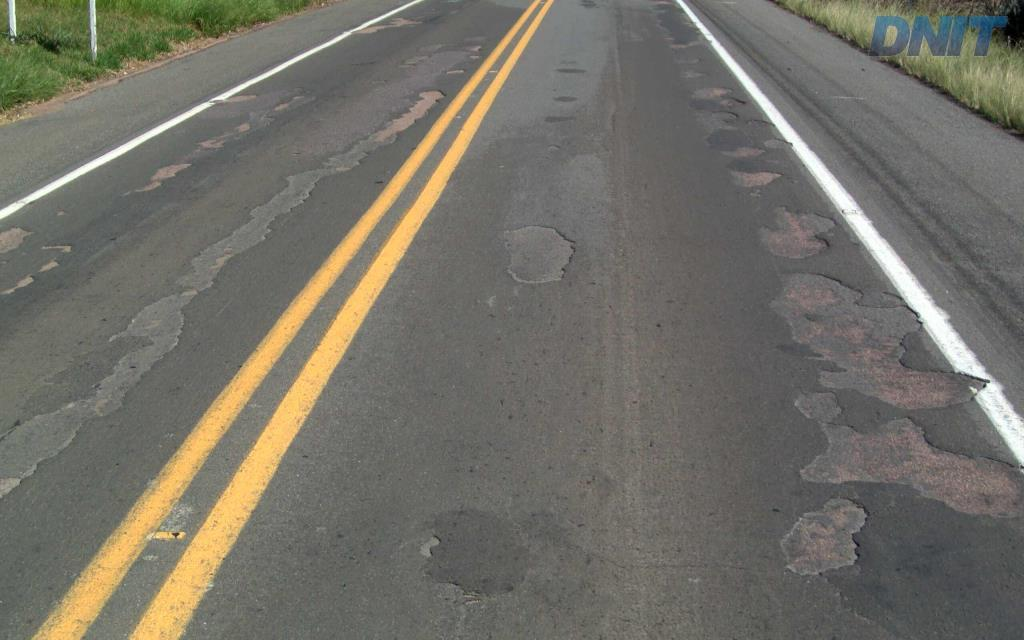pothole: (766, 265, 1022, 585), (488, 217, 586, 296), (743, 200, 842, 262), (710, 162, 789, 193), (714, 131, 793, 160), (743, 112, 776, 130), (716, 89, 749, 107)
